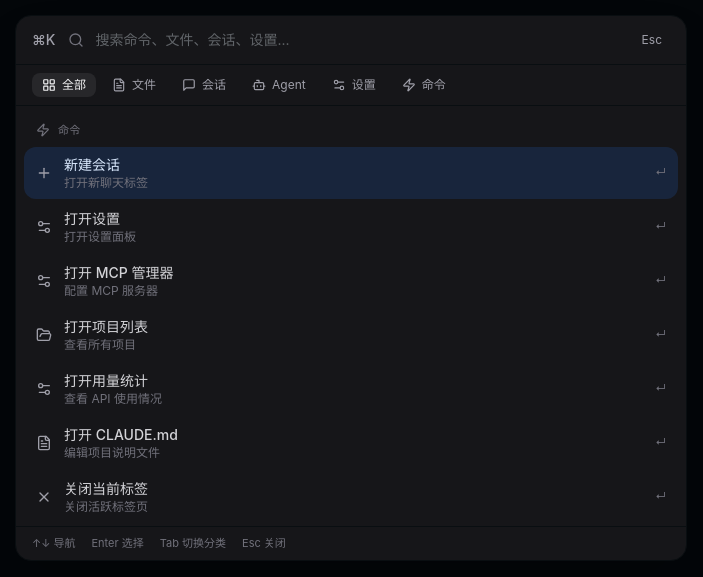
it: CommandPalette Component › category tabs › clicking all category tab shows all items
Click the button "设置". click: (354, 85)
box: [322,73,386,97]
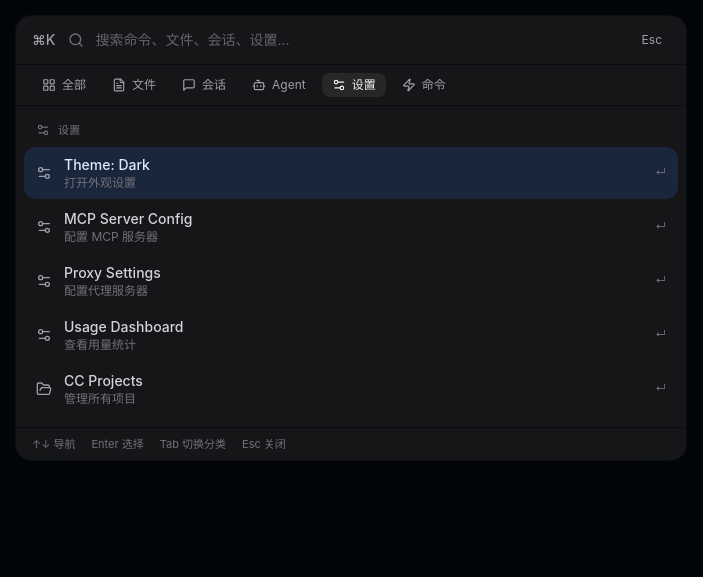
Then switch back to "全部"
Click the button "全部". click: (64, 85)
box: [32,73,96,97]
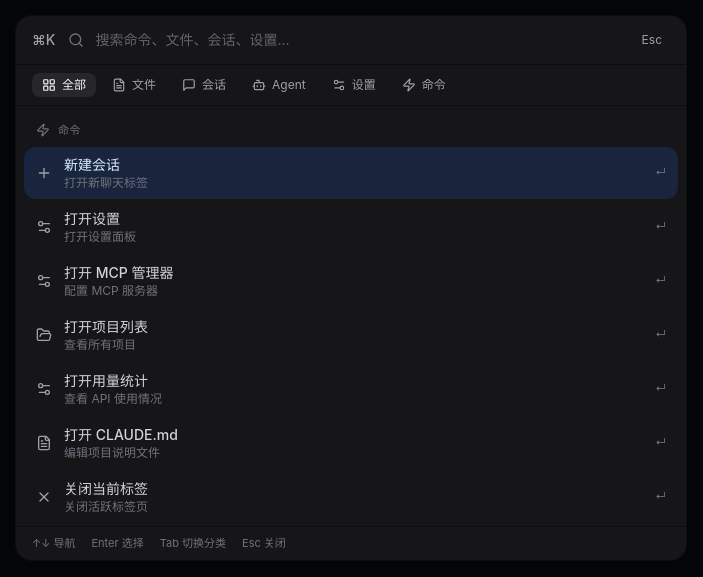
Result: the text "新建会话" is shown at [64,156,120,172]
